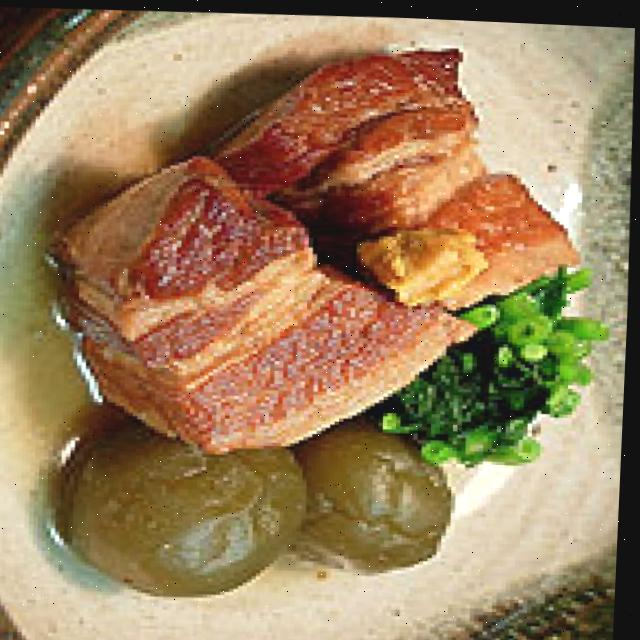猪肉菜式: (0, 0, 640, 487)
